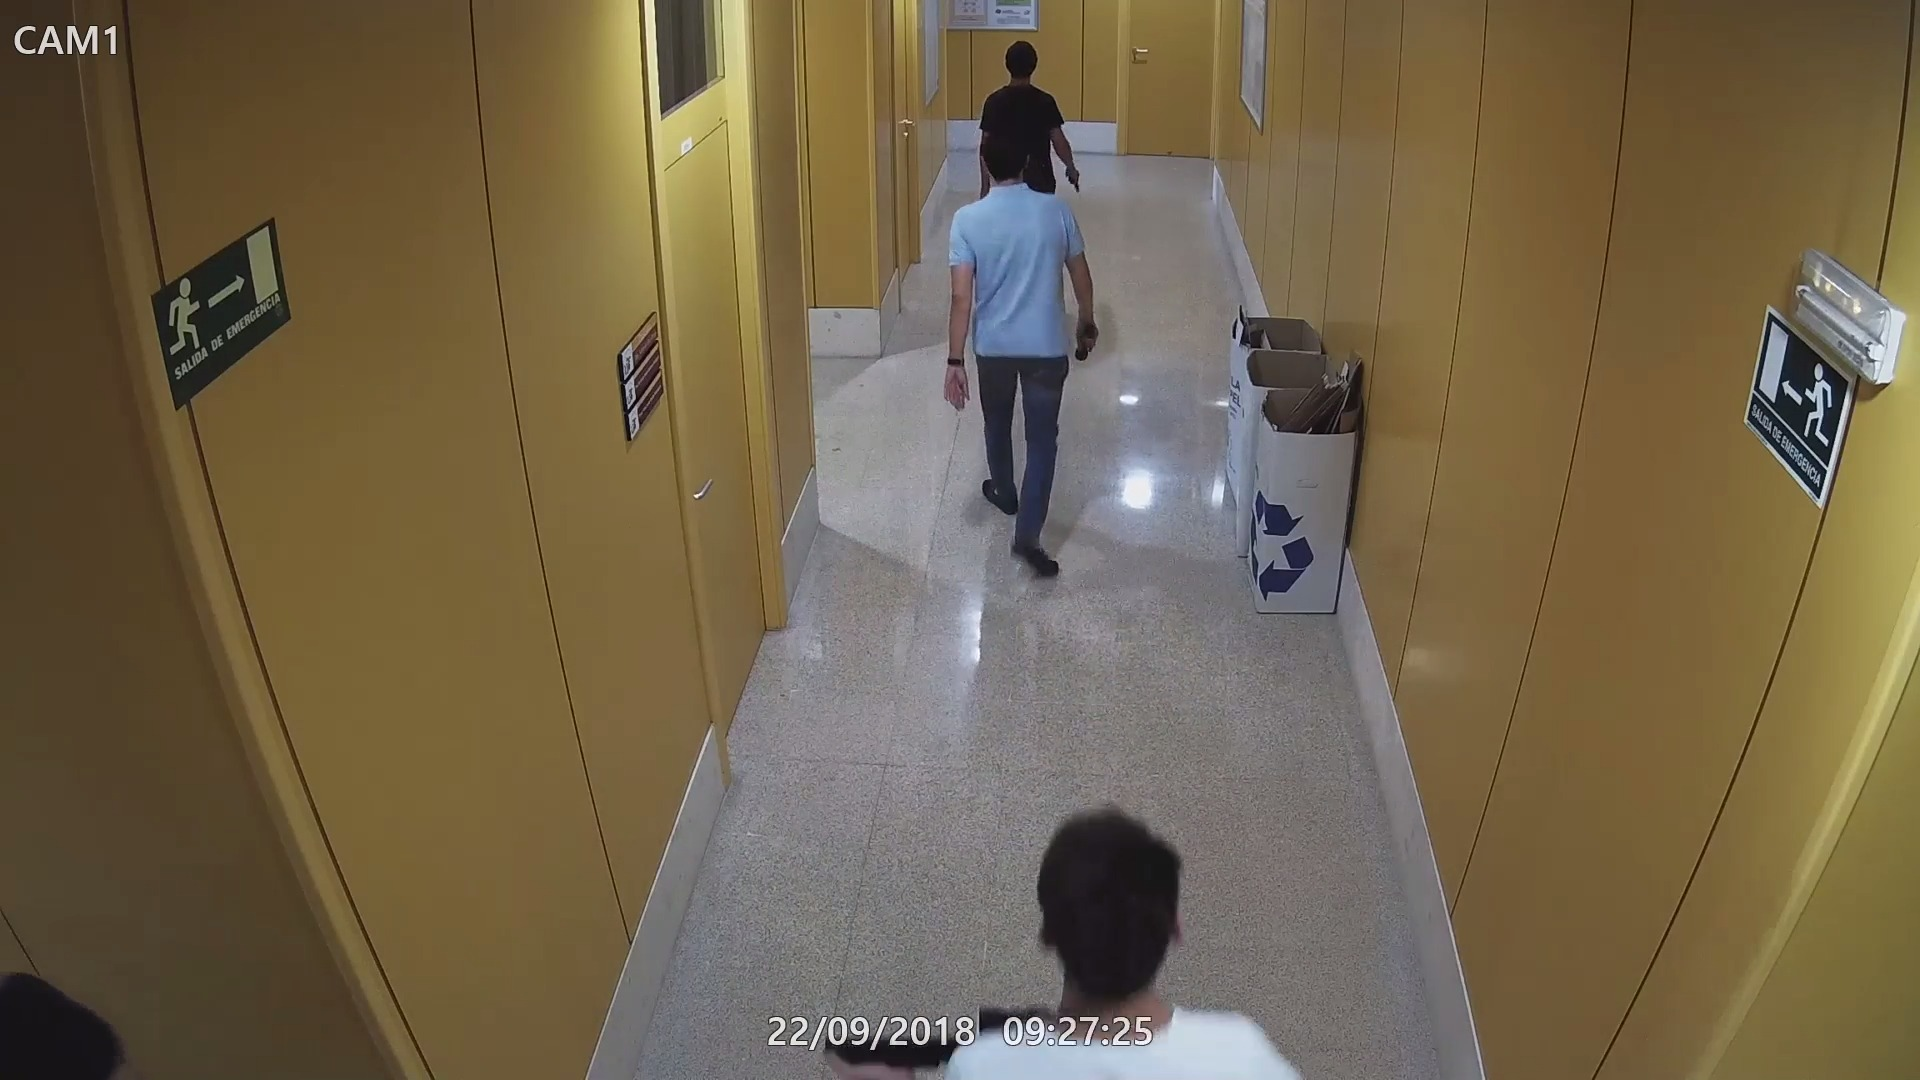Handgun: (1059, 165, 1087, 191)
Short_rifle: (810, 1001, 1058, 1077)
